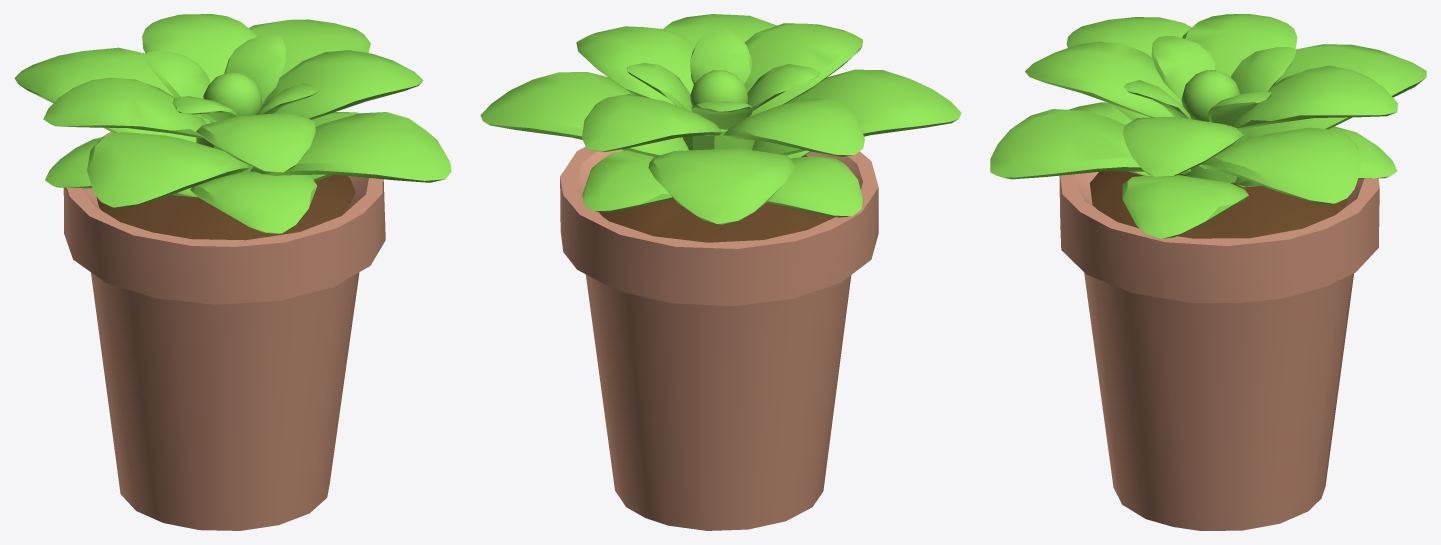
The model's file is Planta1.fbx.
The picture shows the model from 3 angles, left to right: view 1: azimuth 30°, elevation 25°; view 2: azimuth 150°, elevation 25°; view 3: azimuth 270°, elevation 25°; orthographic projection.
Visible parts, largest first — view 1: planta 2; view 2: planta 2; view 3: planta 2.
Boxes of the visible parts, x1=… form: planta 2: x1=14, y1=14, x2=451, y2=530; planta 2: x1=480, y1=14, x2=961, y2=530; planta 2: x1=990, y1=14, x2=1426, y2=530.
Bounding box in the file's own units: 97.45 × 107 × 99.89.
